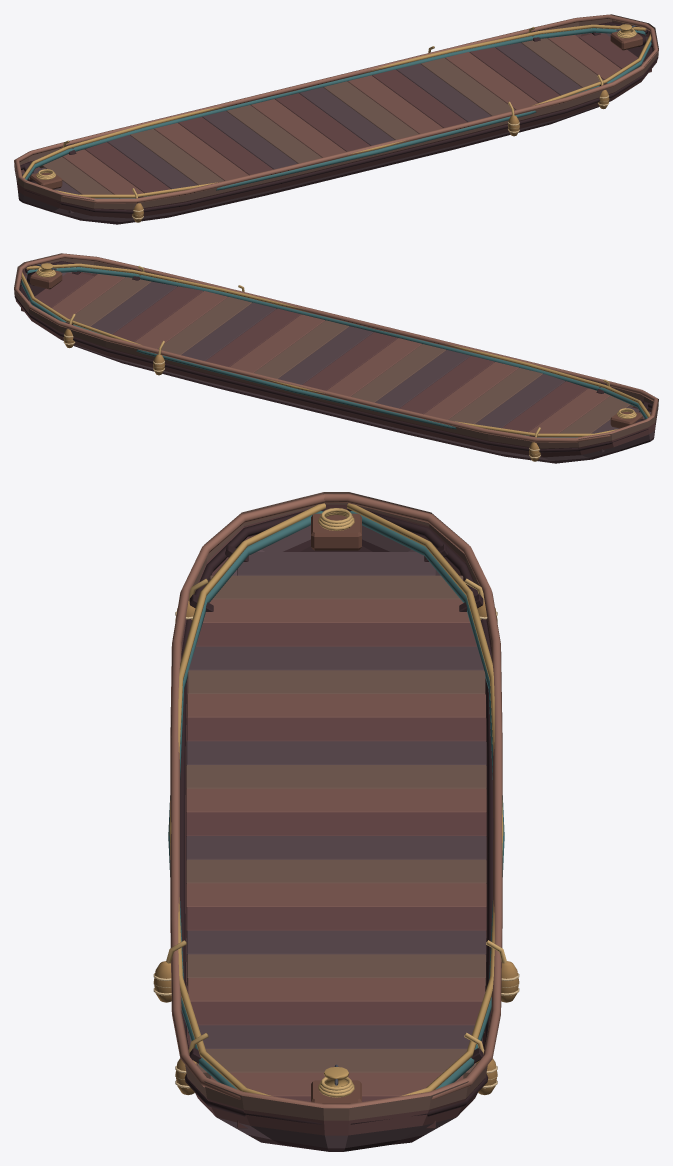
The model's file is ferry_boat.glb.
3 views of the same model, one above another, from view 1: azimuth 30°, elevation 25°; view 2: azimuth 150°, elevation 25°; view 3: azimuth 270°, elevation 25° (orthographic). The views are drawn at different scales.
Visible parts, largest first — view 1: ferry_boat; view 2: ferry_boat; view 3: ferry_boat.
Part boxes in pixels (box(x1,y1,x2,y2)): ferry_boat: box(14, 14, 658, 224); ferry_boat: box(14, 253, 658, 463); ferry_boat: box(153, 492, 519, 1151).
Bounding box in the file's own units: 7.39 × 0.655 × 1.85.
